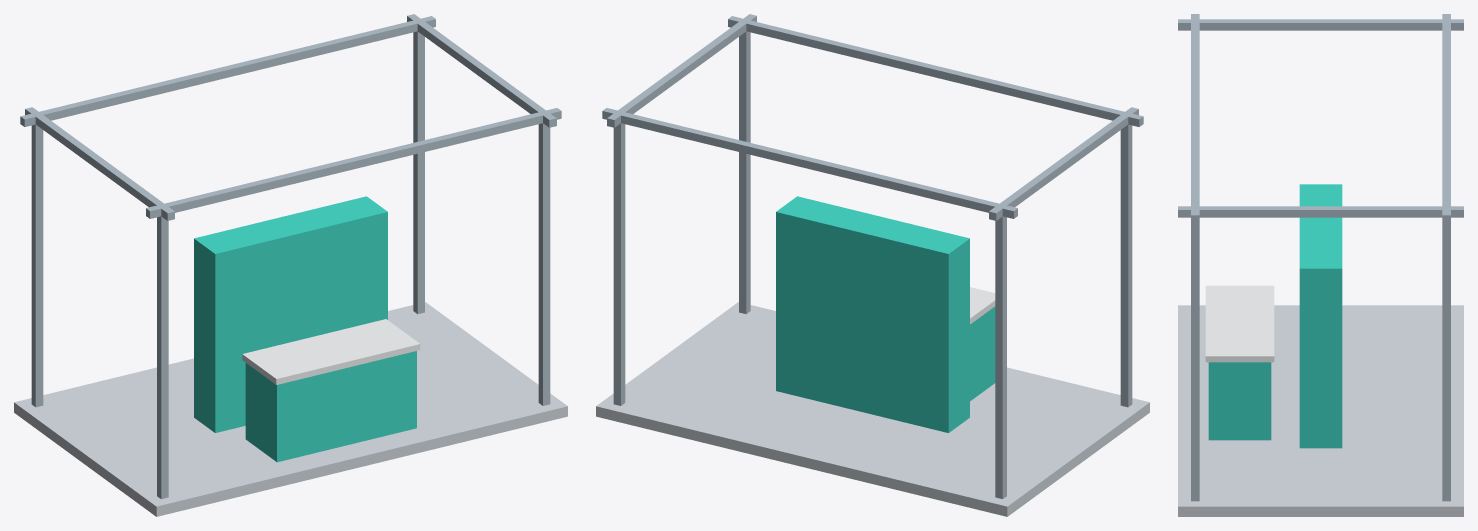
The picture shows the model from 3 angles, left to right: view 1: azimuth 30°, elevation 25°; view 2: azimuth 150°, elevation 25°; view 3: azimuth 270°, elevation 25°; orthographic projection.
Parts seen in each view (by area): view 1: Exhibition Booth Concept; view 2: Exhibition Booth Concept; view 3: Exhibition Booth Concept.
Part boxes in pixels (x1=…): Exhibition Booth Concept: x1=14, y1=14, x2=567, y2=516; Exhibition Booth Concept: x1=596, y1=14, x2=1149, y2=516; Exhibition Booth Concept: x1=1178, y1=14, x2=1463, y2=516.
Bounding box in the file's own units: 5 × 3.49 × 3.
